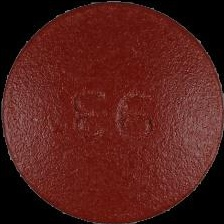55154-8252: (0, 0, 224, 224)
